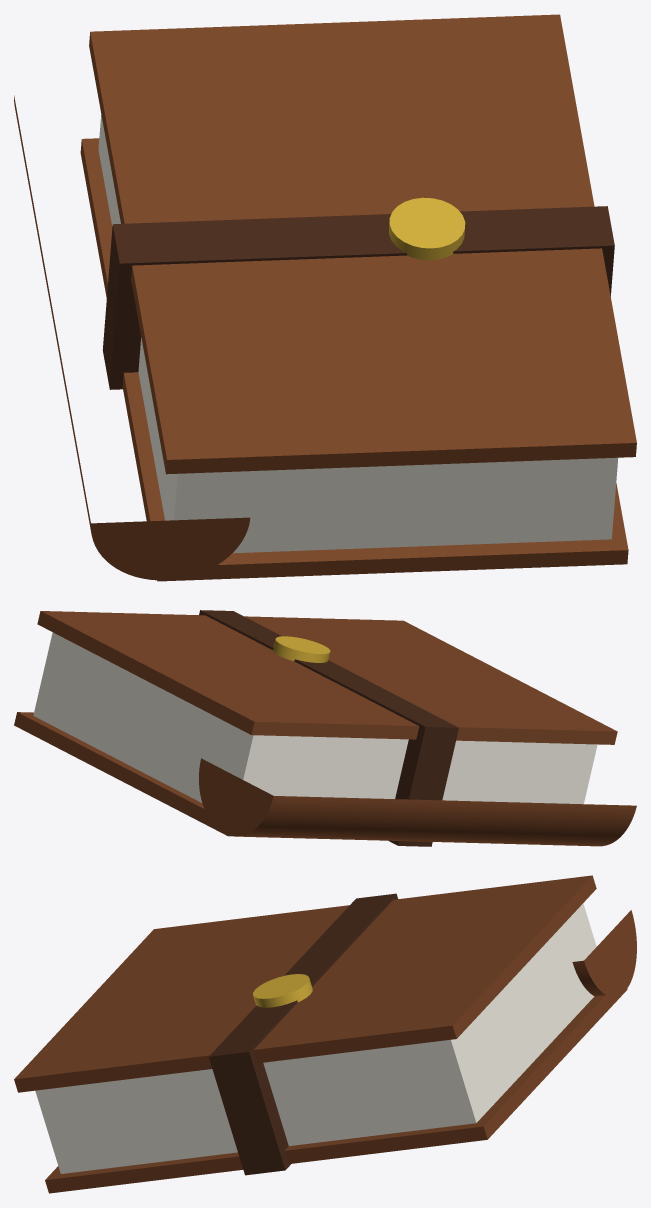
The model's file is leather_journal.glb.
The picture shows the model from 3 angles, top to bottom: view 1: azimuth 30°, elevation 25°; view 2: azimuth 150°, elevation 25°; view 3: azimuth 270°, elevation 25°; orthographic projection. The views are drawn at different scales.
Size of the model in its own units: 1.77 by 0.836 by 1.9.
